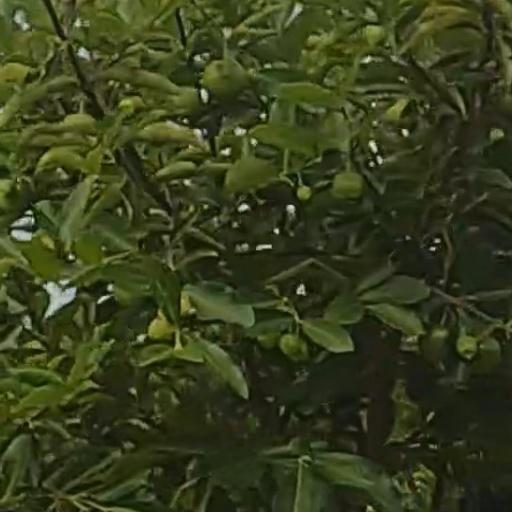acerola: (202, 59, 244, 97)
